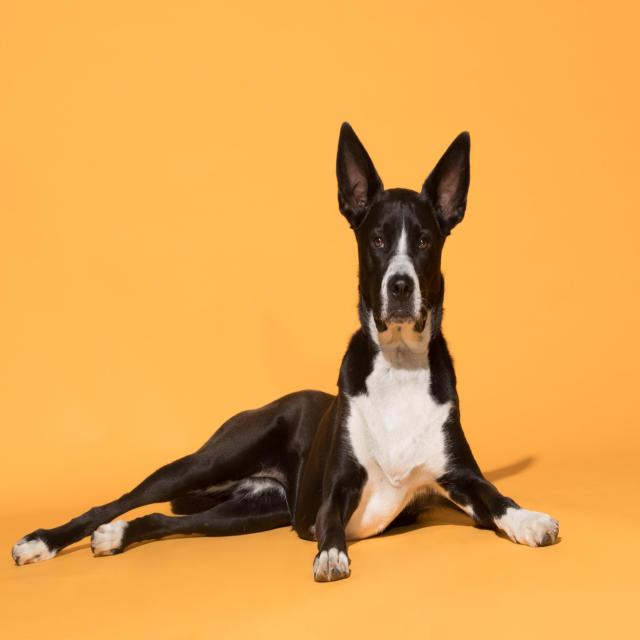Dog: (321, 116, 484, 358)
